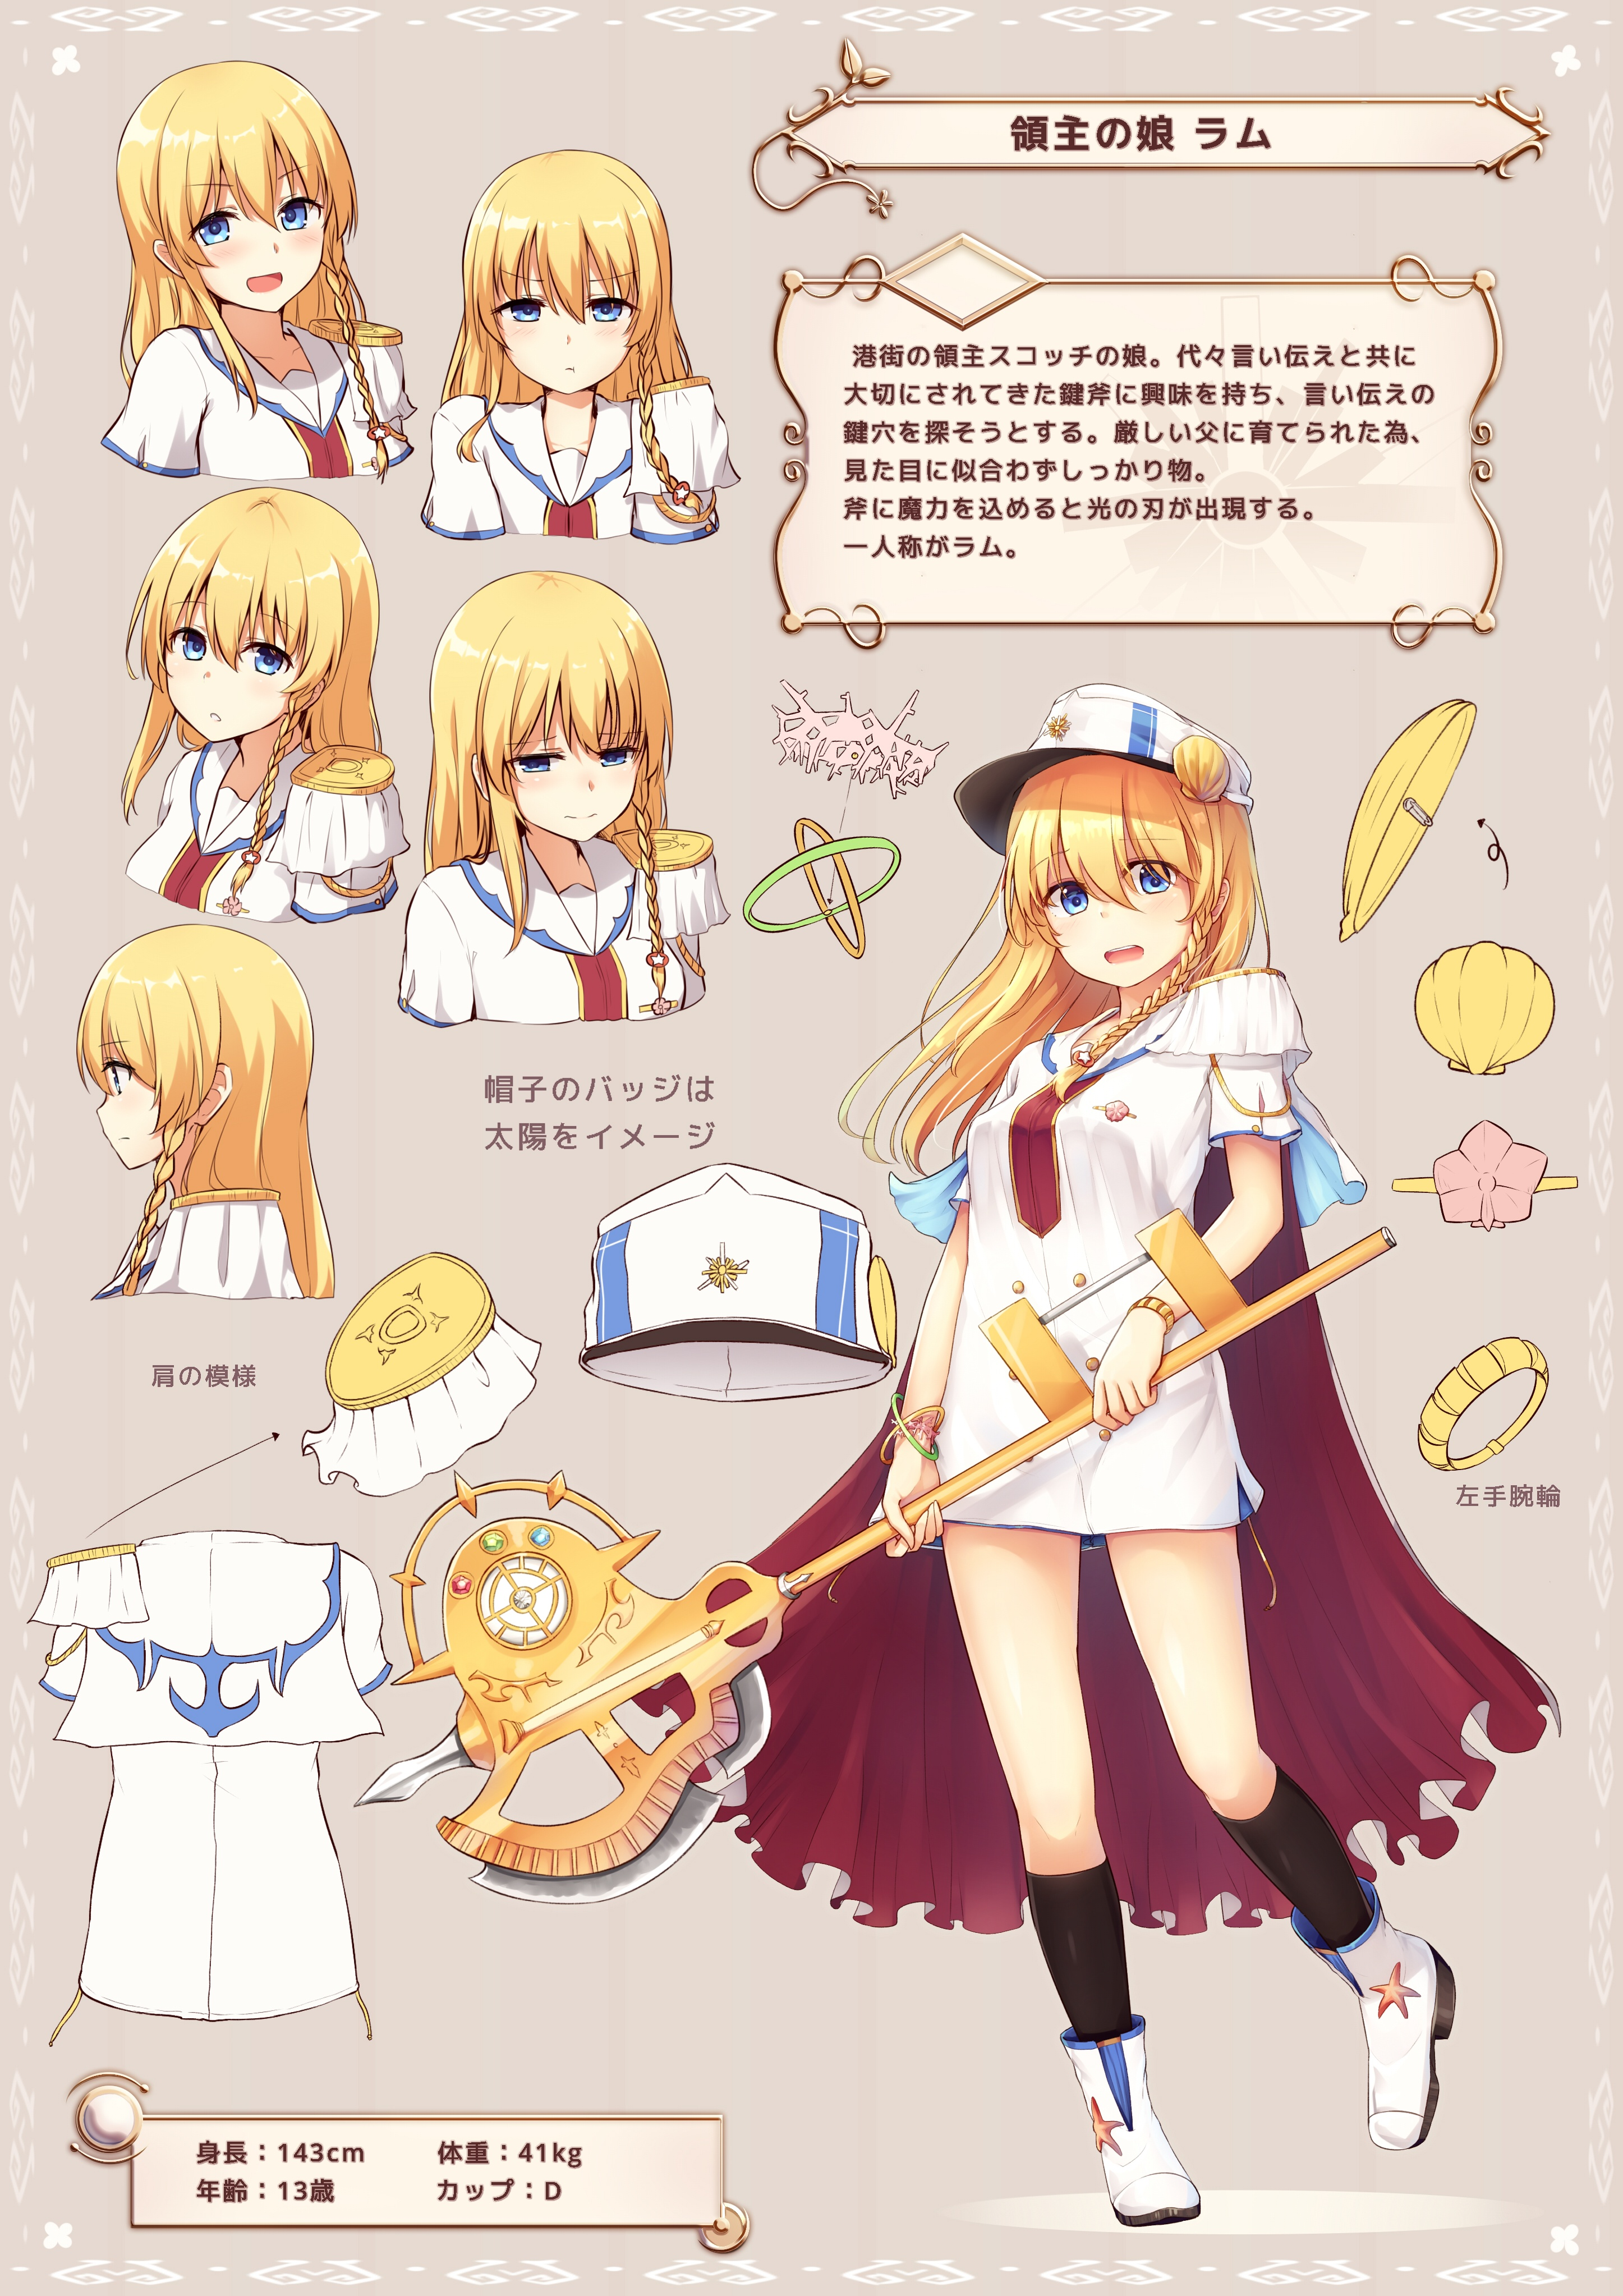纸片人正脸: (973, 729, 1247, 1022), (429, 575, 680, 858), (112, 66, 366, 339), (127, 485, 380, 755), (440, 148, 692, 420)
